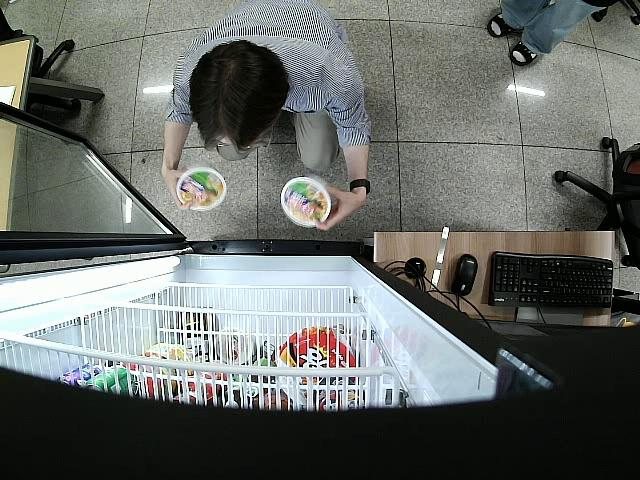00_hand: (315, 183, 366, 232), (159, 168, 193, 211)
09_yukGaeJang: (279, 175, 335, 229), (177, 168, 227, 212)
